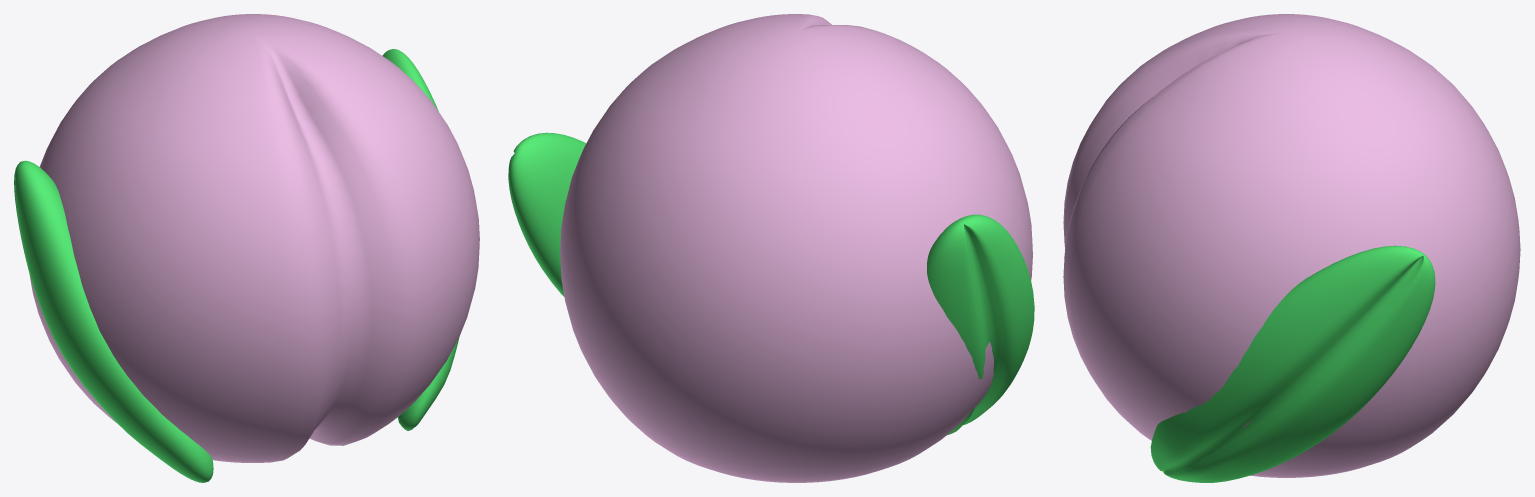
3 renders of one model, left to right at view 1: azimuth 30°, elevation 25°; view 2: azimuth 150°, elevation 25°; view 3: azimuth 270°, elevation 25°, orthographic. The views are drawn at different scales.
Parts seen in each view (by area): view 1: 球.001; view 2: 球.001; view 3: 球.001.
Part boxes in pixels (x1,y1,x2,y2): 球.001: (14, 14, 479, 482); 球.001: (508, 14, 1034, 482); 球.001: (1063, 14, 1520, 482).
Bounding box in the file's own units: 216 × 189 × 193.
